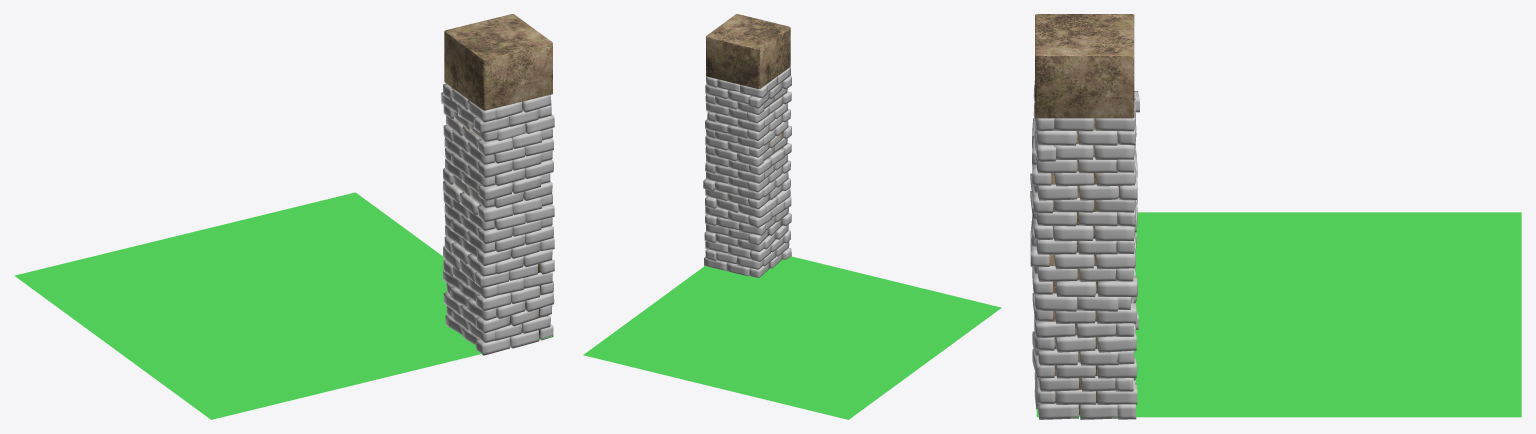
The model's file is InnerCorner.fbx.
3 views of the same model, side by side, from view 1: azimuth 30°, elevation 25°; view 2: azimuth 150°, elevation 25°; view 3: azimuth 270°, elevation 25° (orthographic). The views are drawn at different scales.
Parts seen in each view (by area): view 1: InnerCorner; view 2: InnerCorner; view 3: InnerCorner.
Boxes of the visible parts, <box> form: InnerCorner: <box>14,14,554,419</box>; InnerCorner: <box>583,14,1001,419</box>; InnerCorner: <box>1030,14,1521,419</box>.
Bounding box in the file's own units: 404 × 331 × 405.
